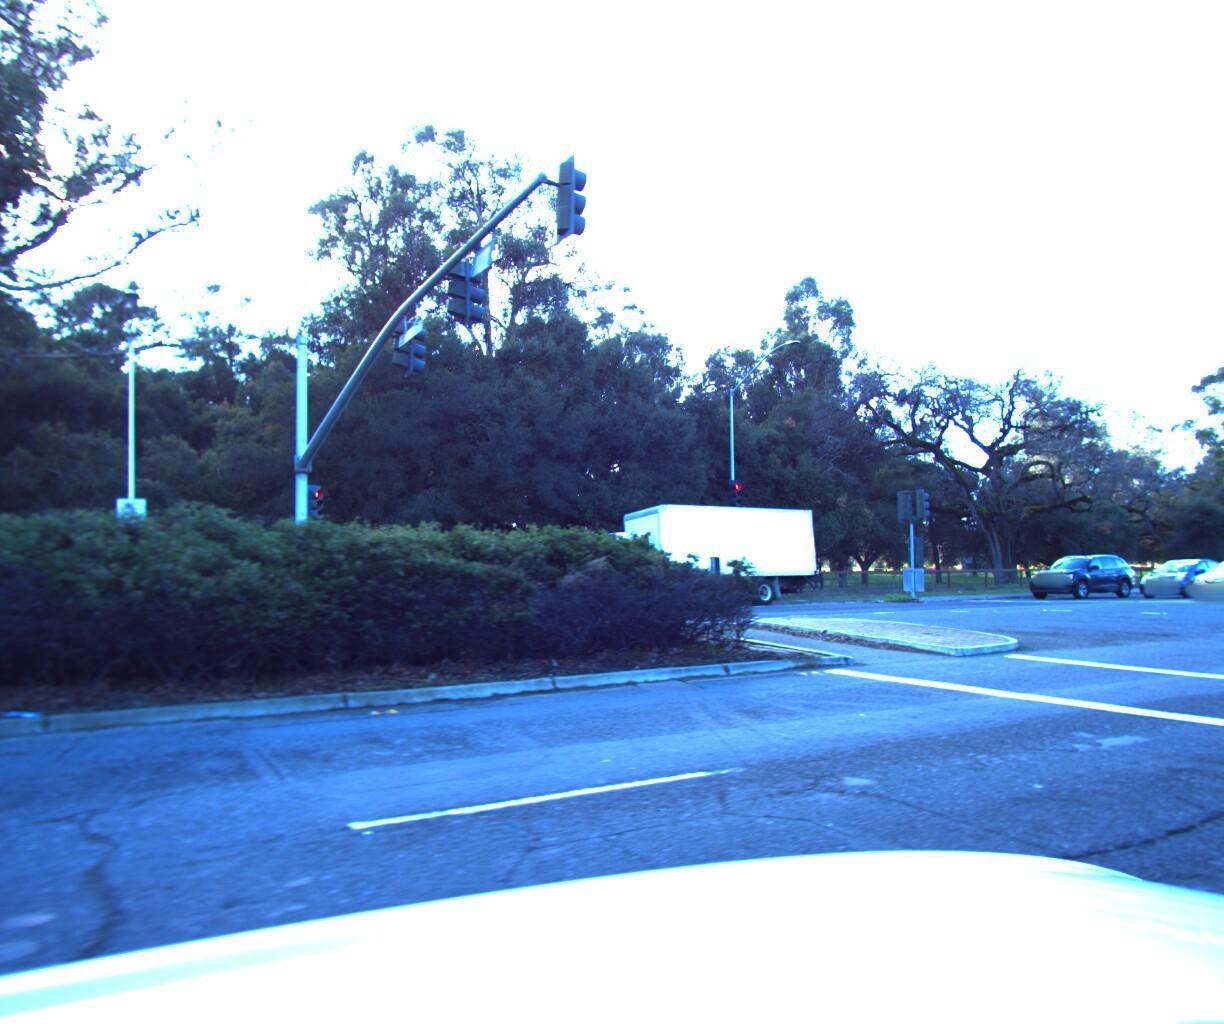car: (1015, 547, 1140, 595), (1127, 552, 1224, 594), (1176, 549, 1224, 596)
truck: (566, 493, 828, 609)
